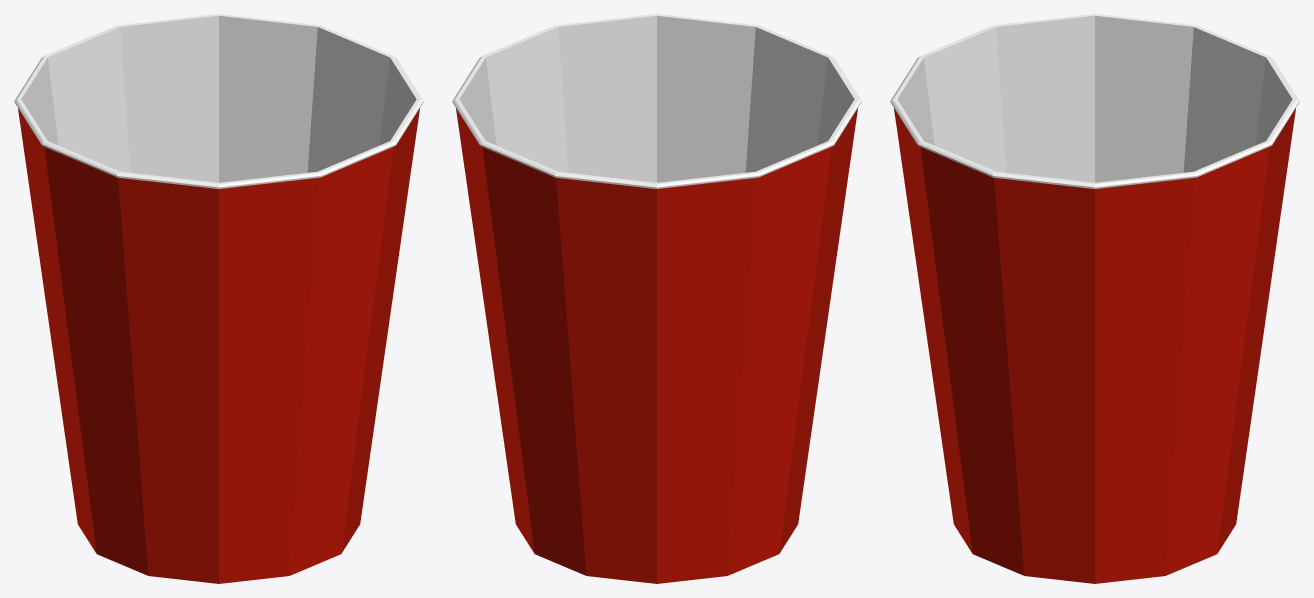
File: paperCup.fbx
The picture shows the model from 3 angles, left to right: view 1: azimuth 30°, elevation 25°; view 2: azimuth 150°, elevation 25°; view 3: azimuth 270°, elevation 25°; orthographic projection.
Visible parts, largest first — view 1: paperCup_01; view 2: paperCup_01; view 3: paperCup_01.
Boxes of the visible parts, x1=… form: paperCup_01: x1=14, y1=14, x2=423, y2=583; paperCup_01: x1=452, y1=14, x2=861, y2=583; paperCup_01: x1=890, y1=14, x2=1299, y2=583.
Size of the model in its own units: 8.11 by 8.11 by 9.3.
